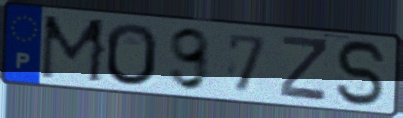7: (225, 31, 269, 95)
9: (165, 26, 214, 93)
M: (37, 13, 110, 86)
O: (104, 21, 160, 88)
S: (333, 38, 391, 109)
Z: (277, 33, 331, 104)
